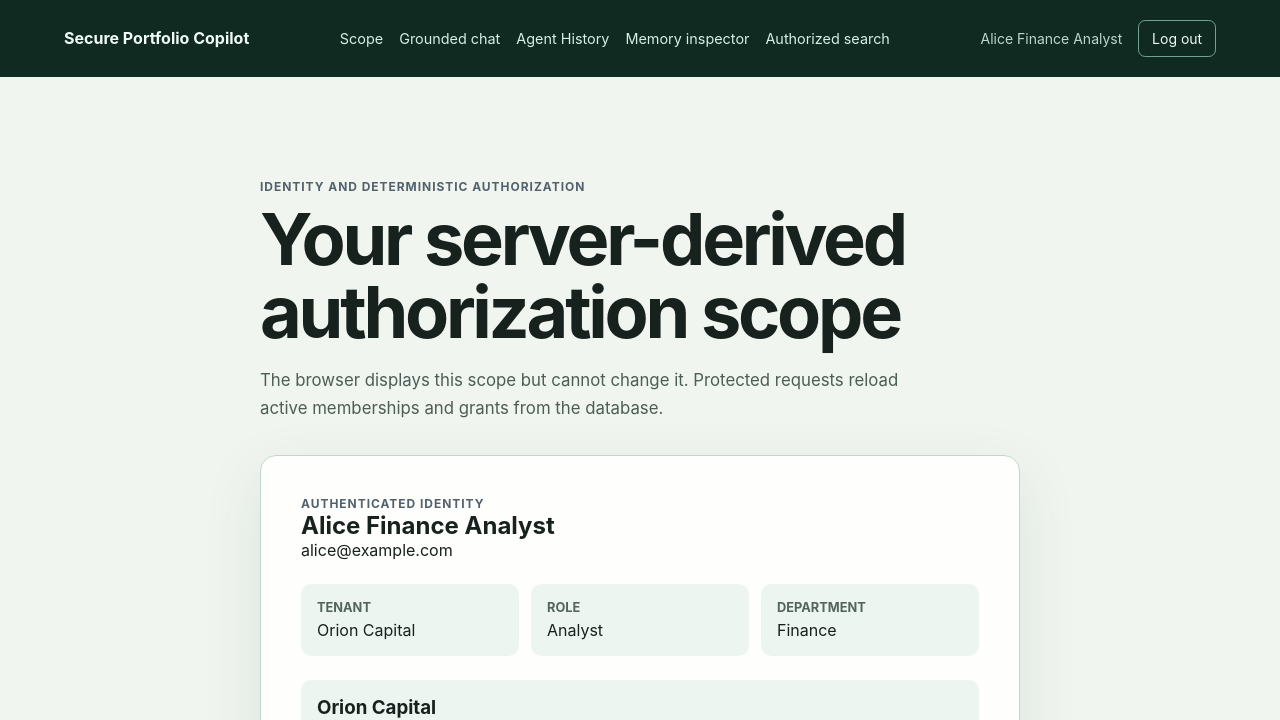
Test: App › logs out, clears the session, and returns to login
Click the button "Log out". click: coordinates (1177, 38)
box: top-left (1138, 20), bottom-right (1216, 57)
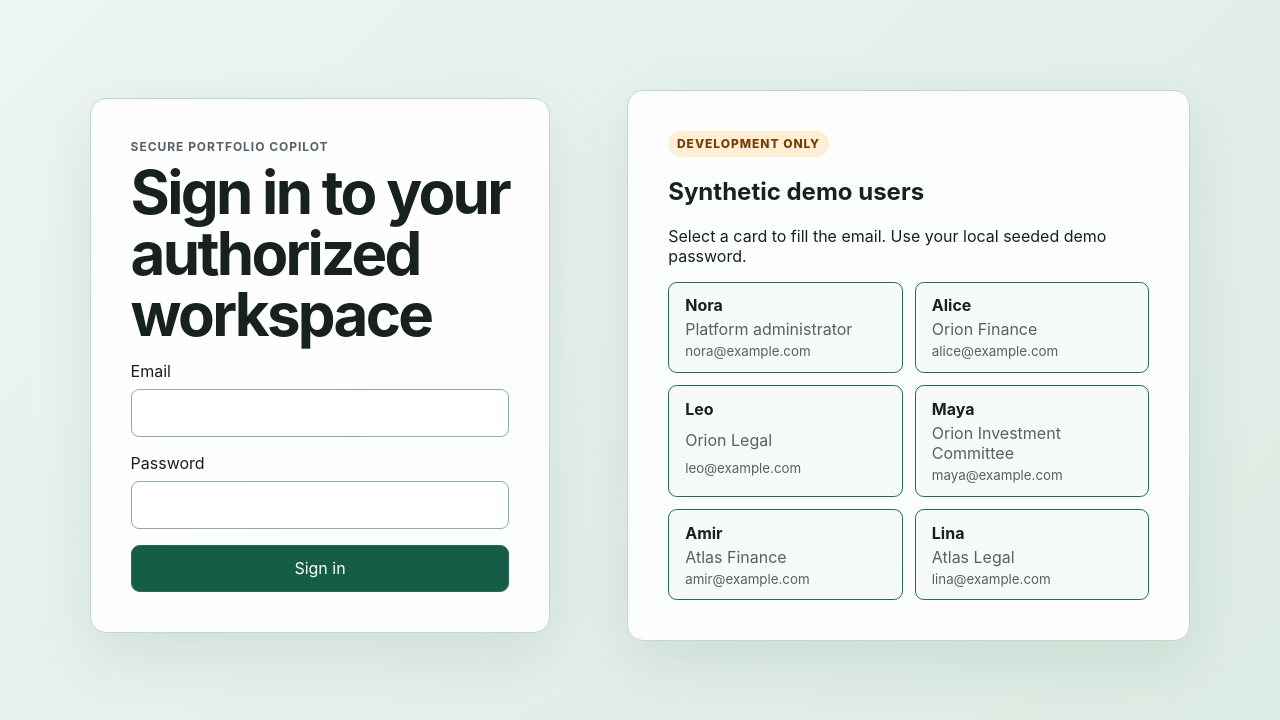
Expected: the heading "Sign in to your authorized workspace" is shown, top-left (131, 162), bottom-right (509, 345)
